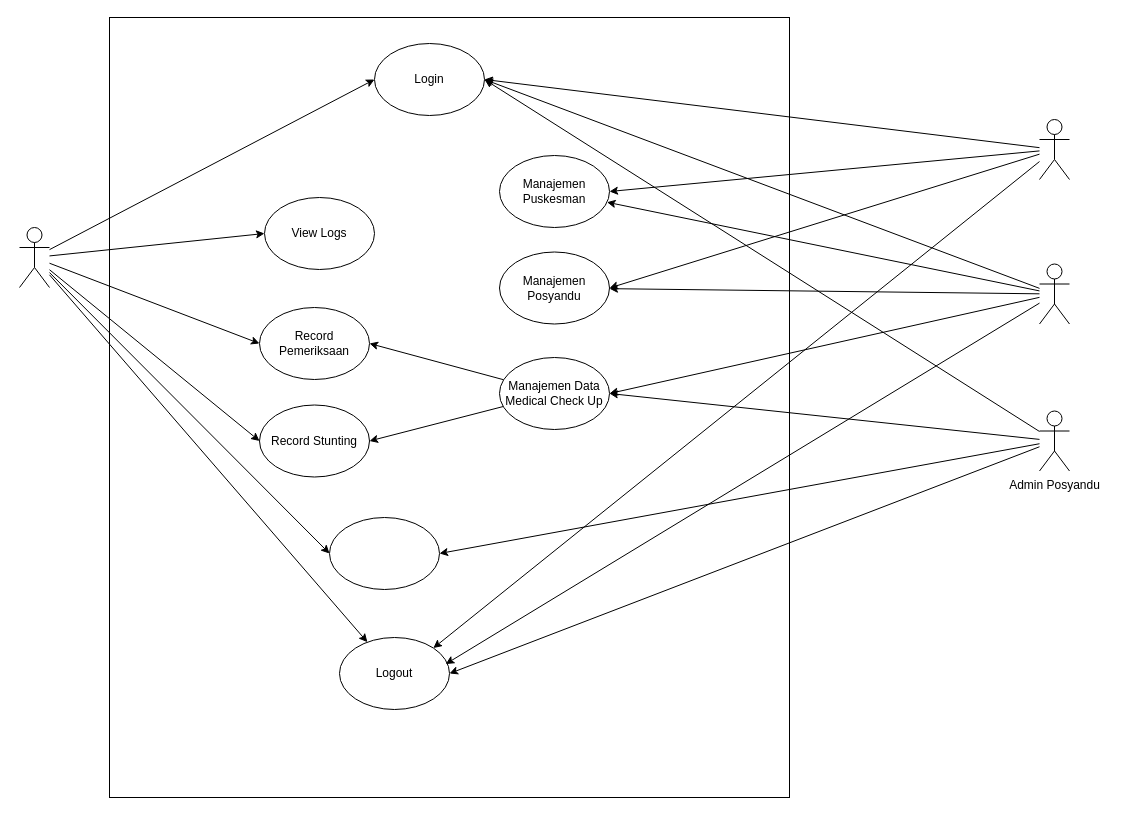
Some shapes in this 1121 by 815 pixel diagram are drawn without their labels. Each missing label, with the centre of its shape:
Admin Puskesmas: (x=1054, y=293)
Manajemen Anak: (x=384, y=553)
Parent: (x=34, y=257)
Super Admin: (x=1054, y=149)
